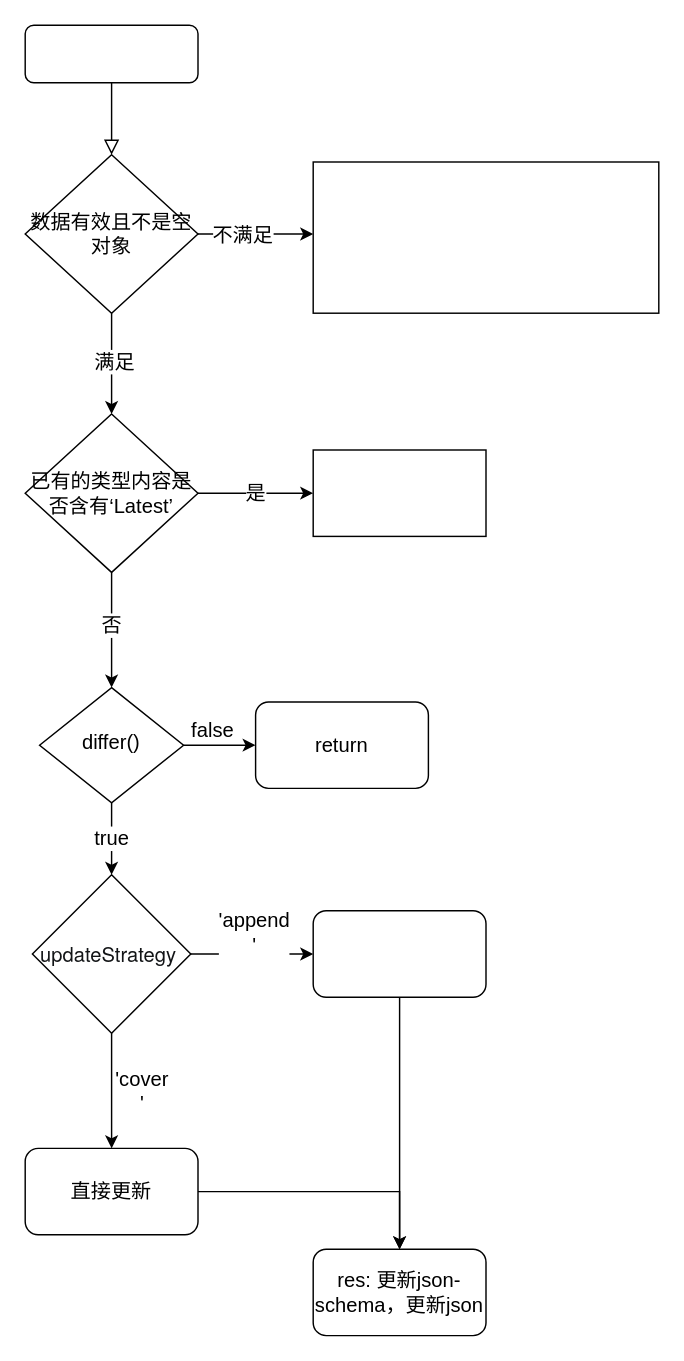
The diagram is 684 pixels wide and 1361 high, and some of its shapes have lost their labels. The centre of each missing label's shape, as x and y in pixels:
"request/response" goes at (x=111, y=53).
"停止相应的转换" goes at (x=399, y=492).
"如果是 response， 不启动转换并提示” 请禁用浏览器缓存或检查该请求的响应body是否是对象格式，cli无法捕获正常的响应体 “" goes at (x=485, y=237).
"追加新的类型定义（命名末尾会加上L astest ）" goes at (x=399, y=953).
